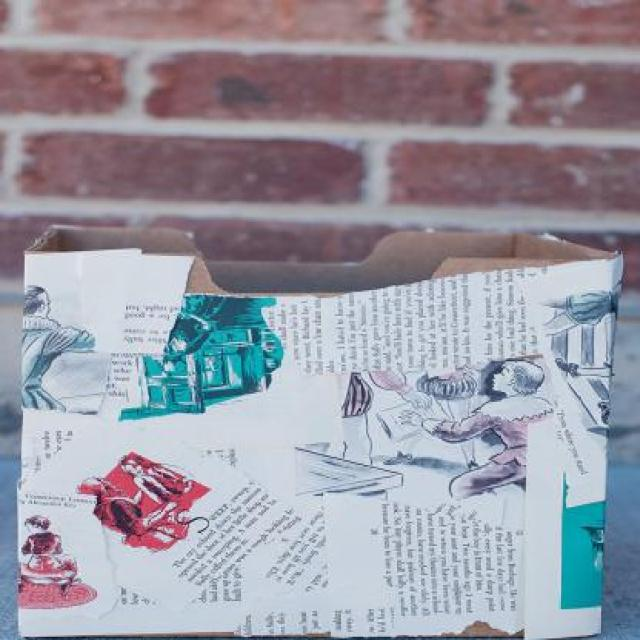box: (15, 176, 626, 640)
